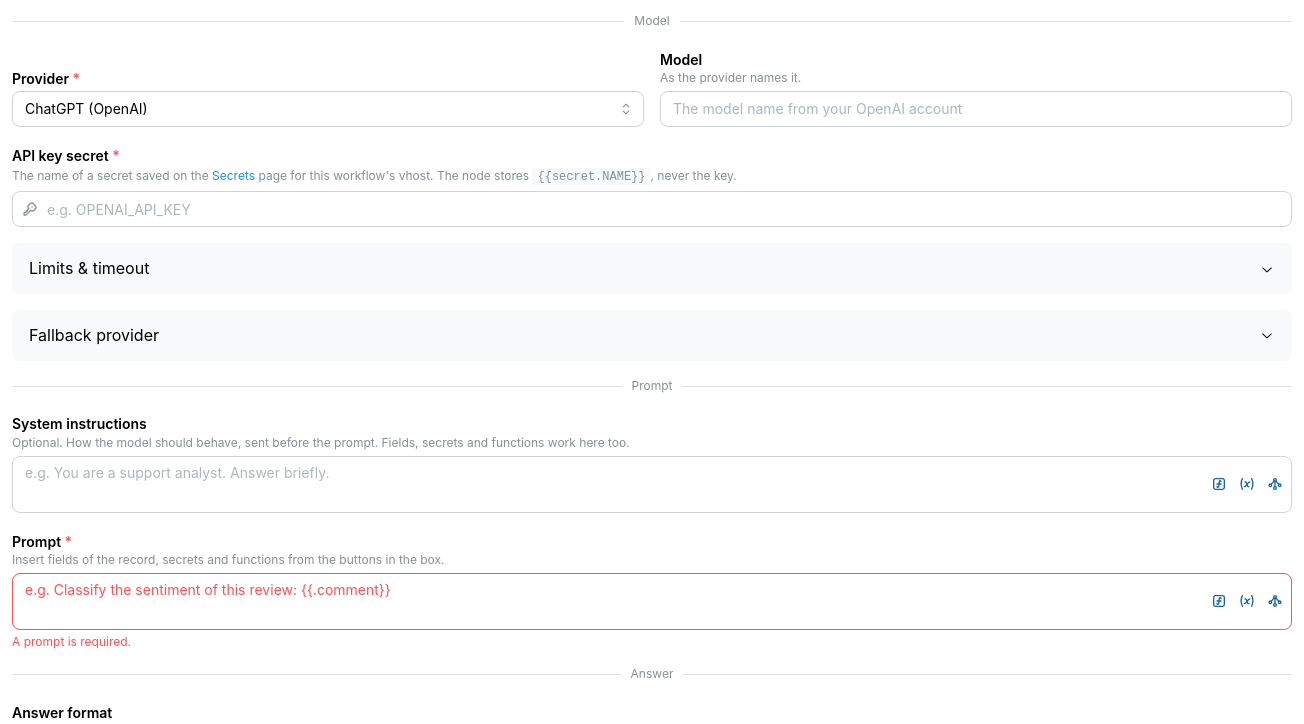
Test case: AI connection settings › rejects a name a vhost secret cannot have
Type "my key" into the dropdown labelled "API key secret *". click: (652, 209)
box: top-left (12, 191), bottom-right (1292, 227)
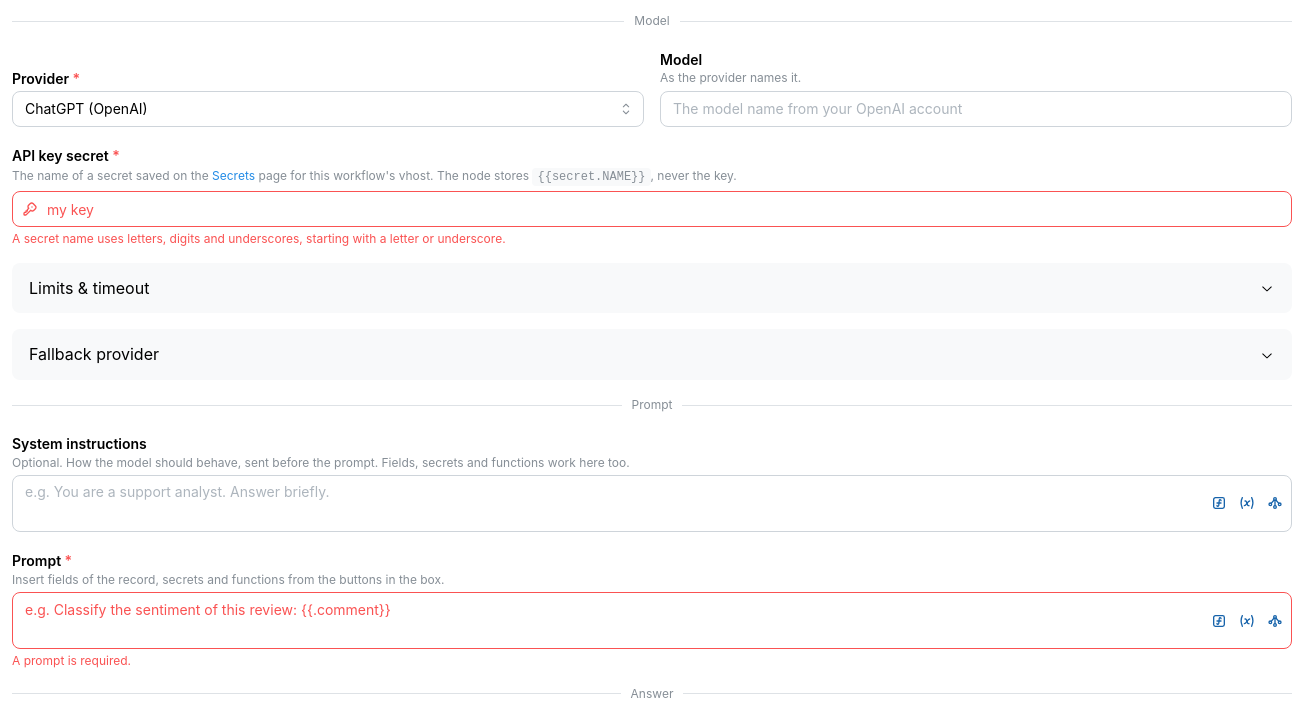
Expected: the text "letters, digits and underscores" is shown, top-left (12, 231), bottom-right (506, 246)
